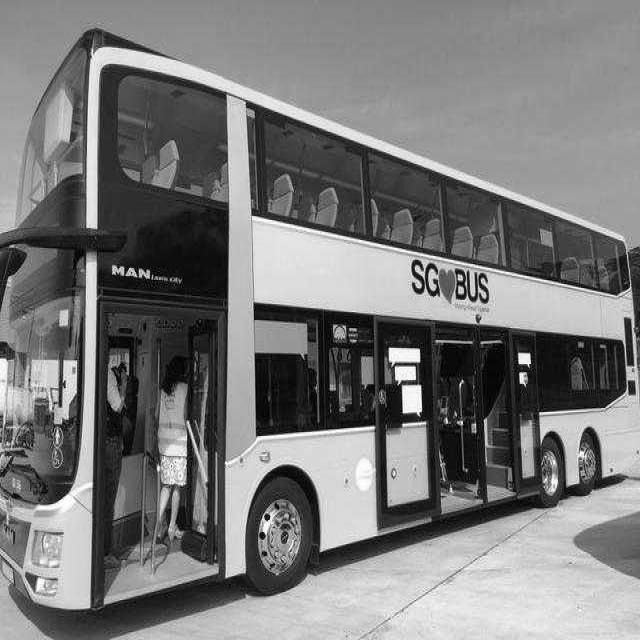Bus: (12, 41, 640, 614)
